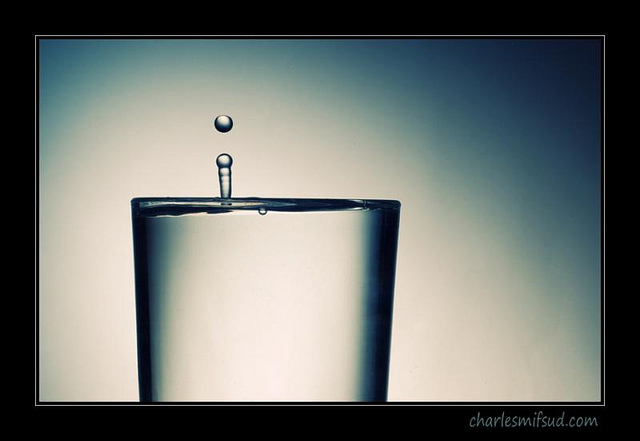glass of water: (114, 99, 405, 405)
